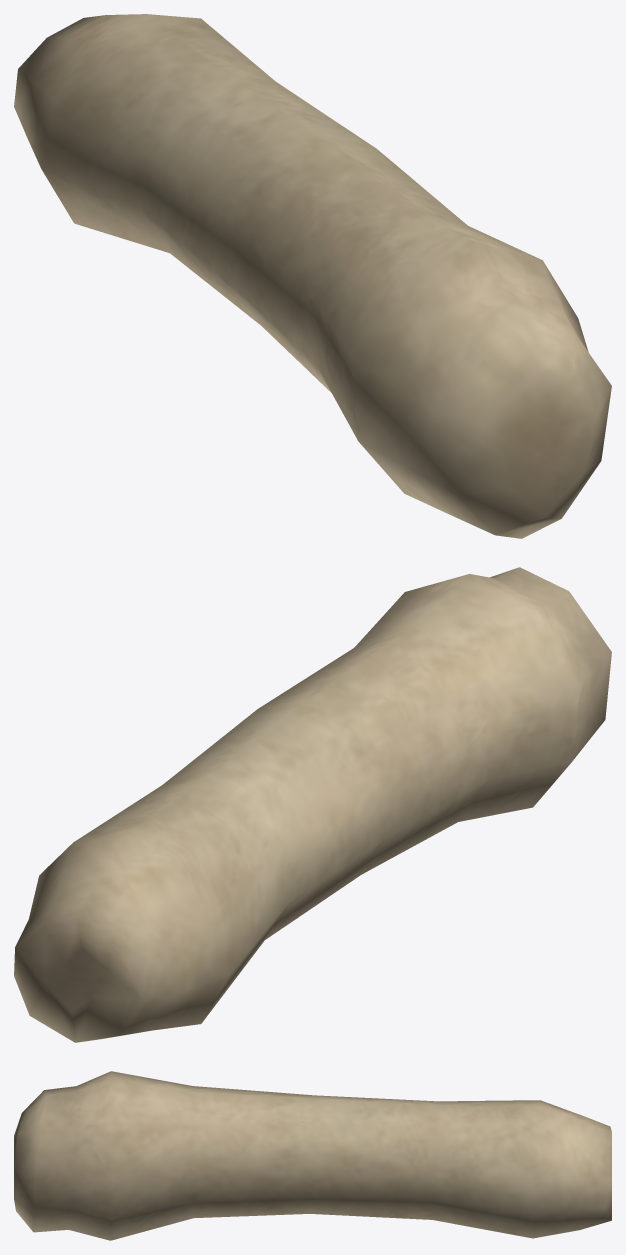
The model's file is Caudal_Vertebrae16.glb.
3 renders of one model, top to bottom at view 1: azimuth 30°, elevation 25°; view 2: azimuth 150°, elevation 25°; view 3: azimuth 270°, elevation 25°, orthographic. The views are drawn at different scales.
Visible parts, largest first — view 1: Caudal_Vertebrae_35:Group18947; view 2: Caudal_Vertebrae_35:Group18947; view 3: Caudal_Vertebrae_35:Group18947.
Part boxes in pixels (<box>): Caudal_Vertebrae_35:Group18947: <box>14,14,611,538</box>; Caudal_Vertebrae_35:Group18947: <box>14,567,611,1042</box>; Caudal_Vertebrae_35:Group18947: <box>14,1071,611,1240</box>.
Bounding box in the file's own units: 3.77 × 3.85 × 13.13.
Materials: 1 (1 with a texture image).
